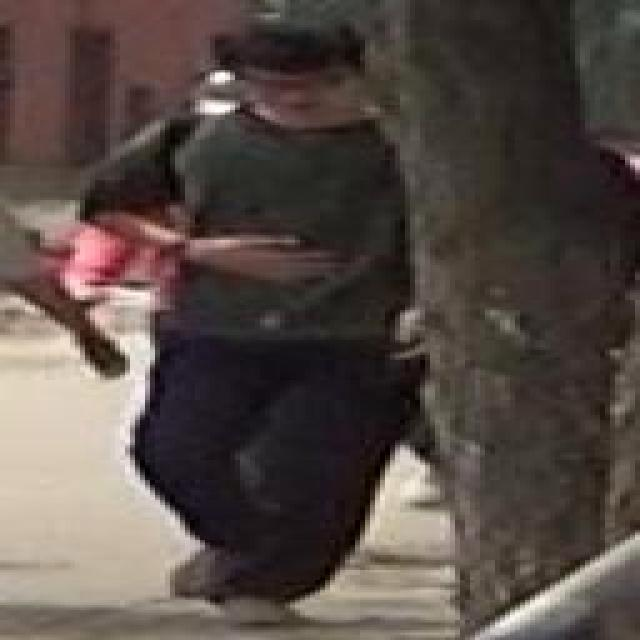adult: (76, 19, 436, 615)
